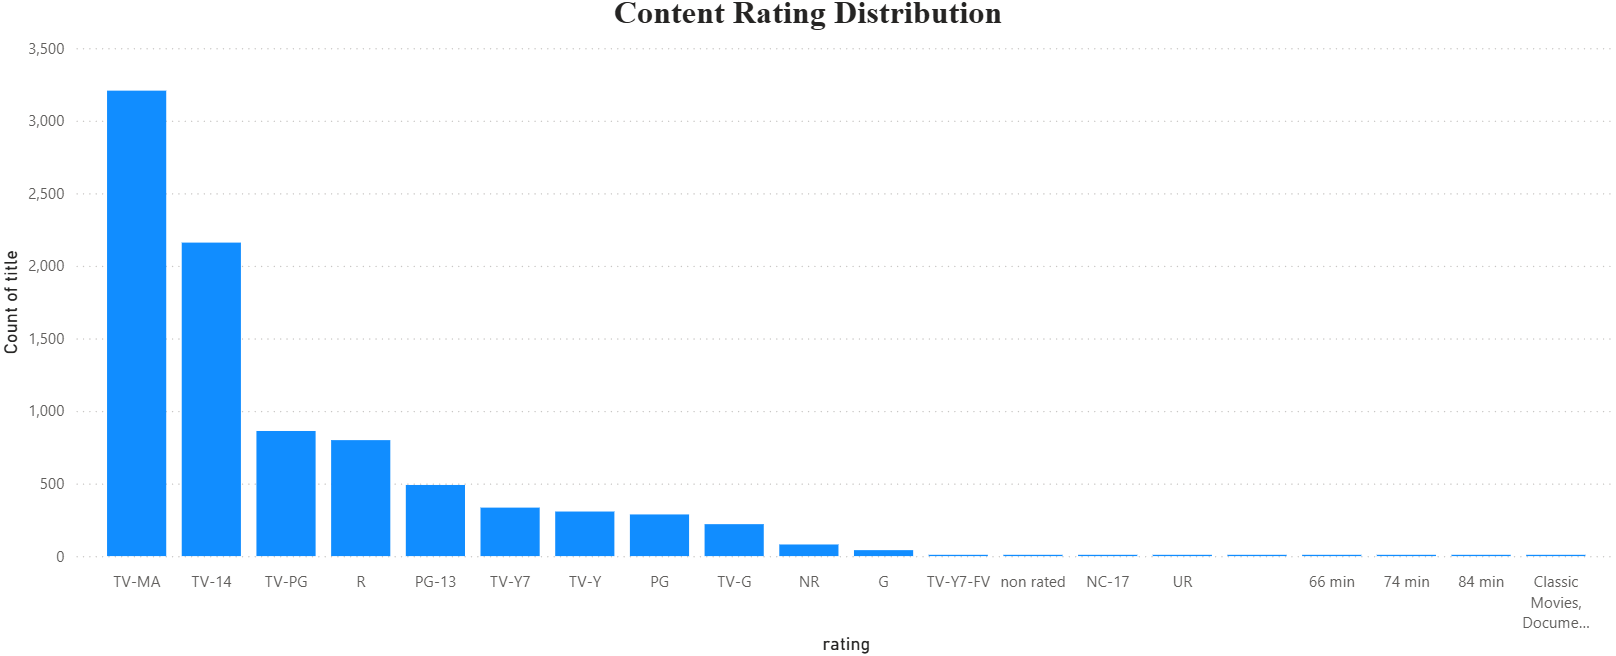

The dashboard page shown, as its layout file describes it:
{"tool":"powerbi","page":{"name":"Page 5","canvas":[1280,720],"ordinal":4},"visuals":[{"type":"columnChart","title":"Content Rating Distribution","fields":{"Category":["netflix_cleaned_data.rating"],"Y":["CountNonNull(netflix_cleaned_data.title)"]},"box":[0,0,1280,525],"z":0}]}

Visuals, with their boxes on the page's 1280x720 design canvas (x1, y1, x2, y2). These are canvas units, not pixel positions in the 1616x656 screenshot, which may show the page scaled, cropped or inside an application window:
"Content Rating Distribution" columnChart: {"left": 0, "top": 0, "right": 1280, "bottom": 525}
